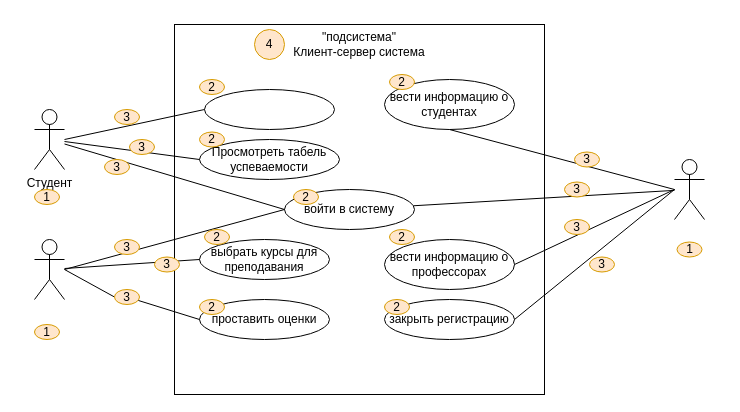
The diagram is 740 pixels wide and 412 high, and some of its shapes have lost their labels. The shapes that lost their labels are listed below. From the top down, each one's centre as x and y in pixels, then its label:
At (269,109): "зарегистрироваться на курсы".
At (689,189): "регистратор".
At (49,269): "Профессор".
